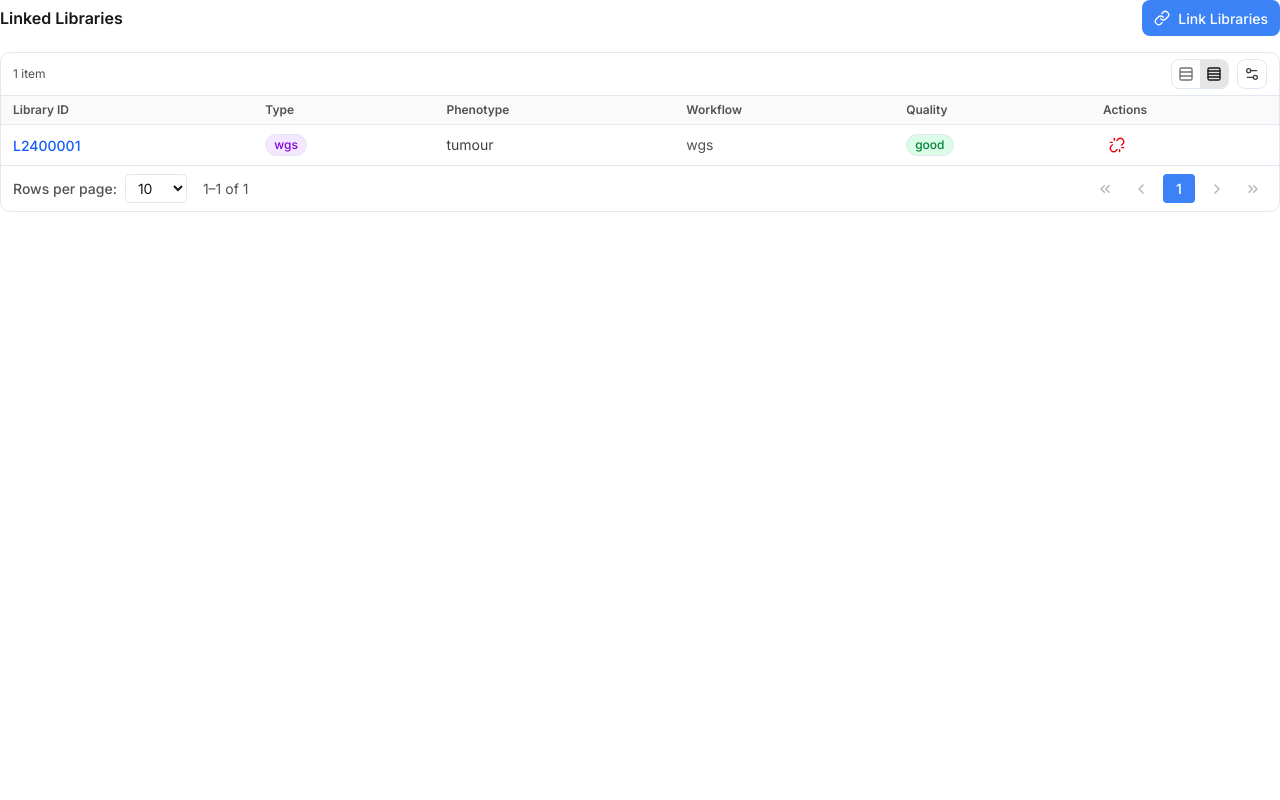
Test: CaseDetailsLinkedLibrariesTab › requires confirmation and allows cancellation before unlinking a library
The width and height of the screenshot is (1280, 800).
Step 1. Click the button named "Unlink library L2400001" → (1117, 145), box x1=1103 y1=131 x2=1131 y2=159
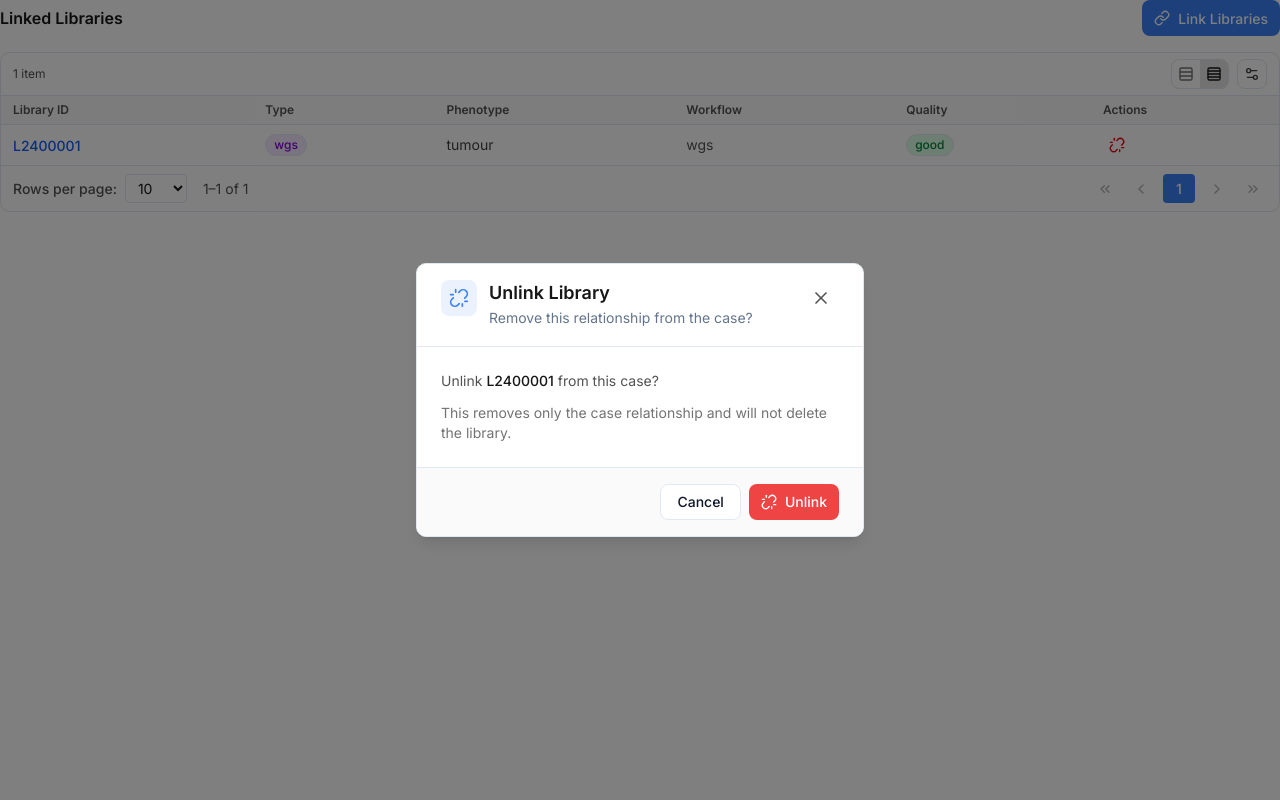
Check: the heading "Unlink Library" is shown, box x1=489 y1=280 x2=610 y2=305
Step 2. Click the button "Cancel" → (701, 502), box x1=660 y1=484 x2=741 y2=520
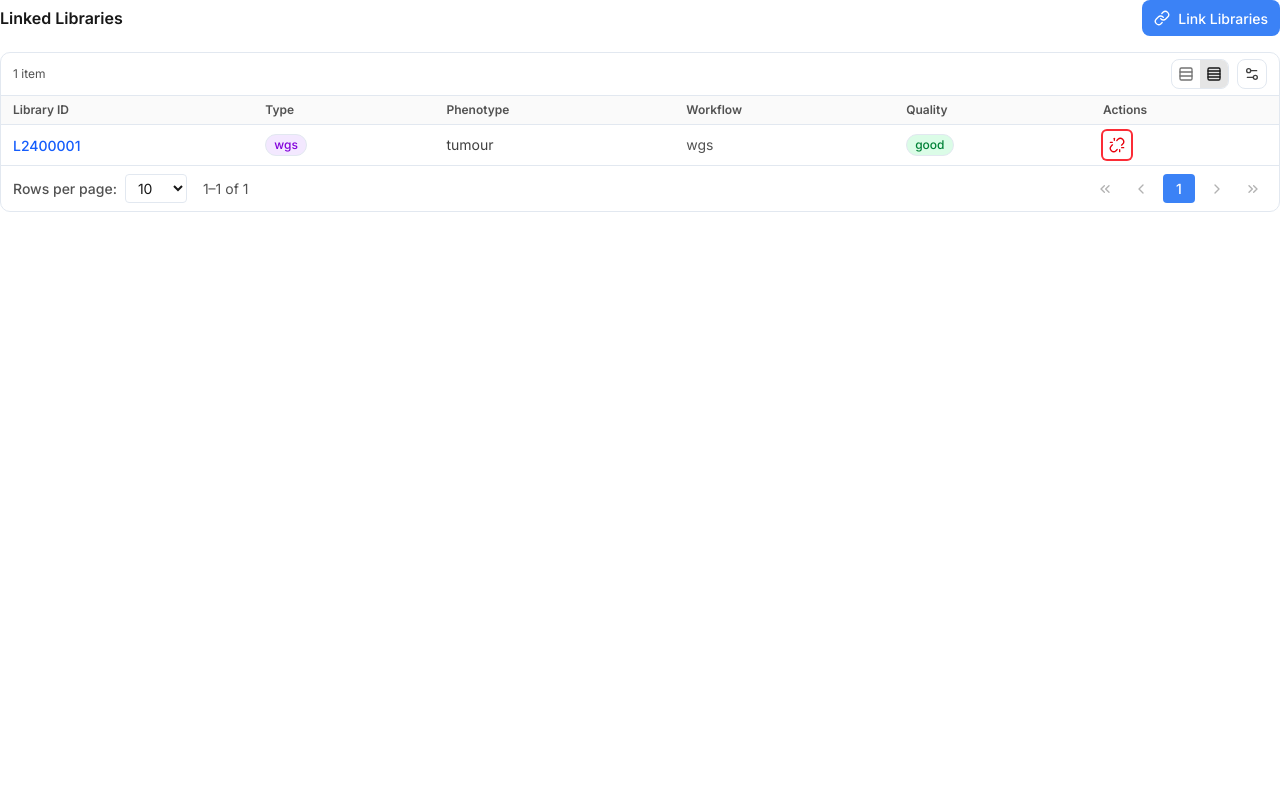
Check: the heading "Unlink Library" is gone
Step 3. Click the button named "Unlink library L2400001" → (1117, 145), box x1=1103 y1=131 x2=1131 y2=159
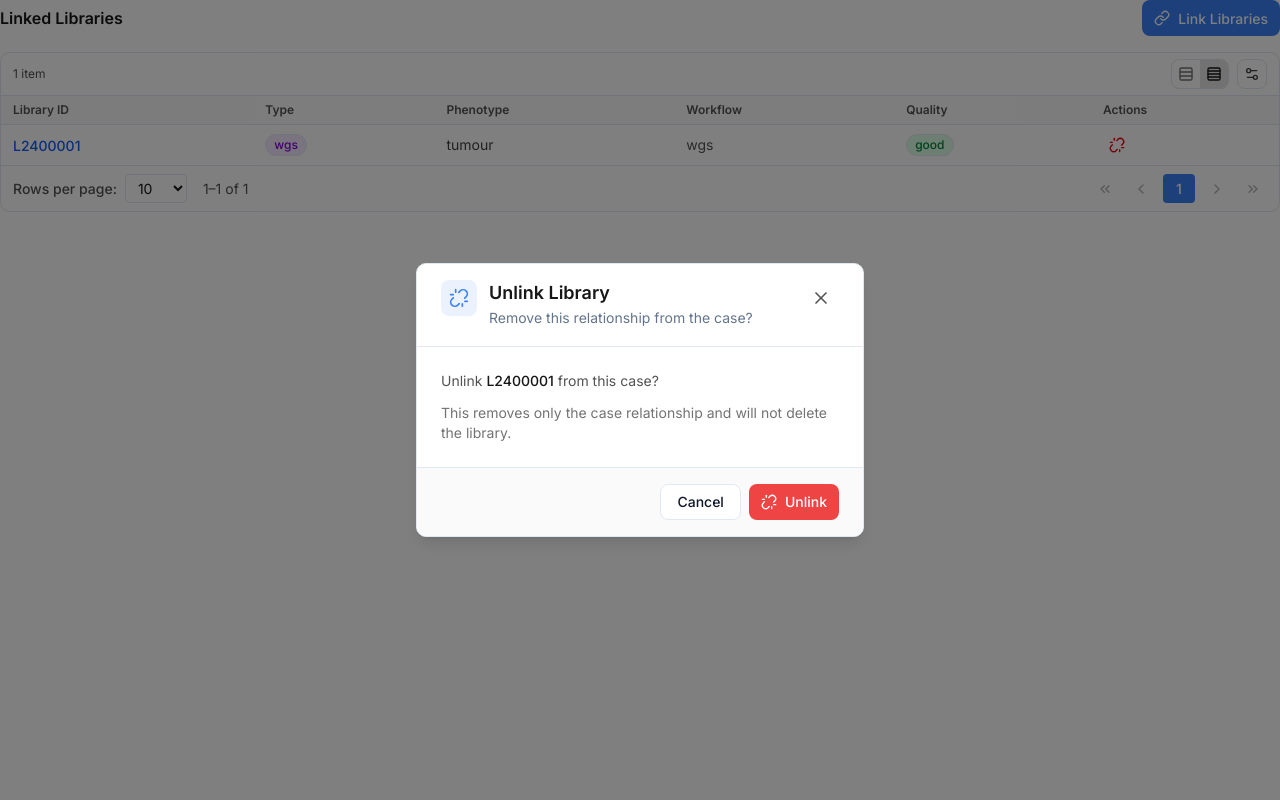
Check: the heading "Unlink Library" is shown, box x1=489 y1=280 x2=610 y2=305
